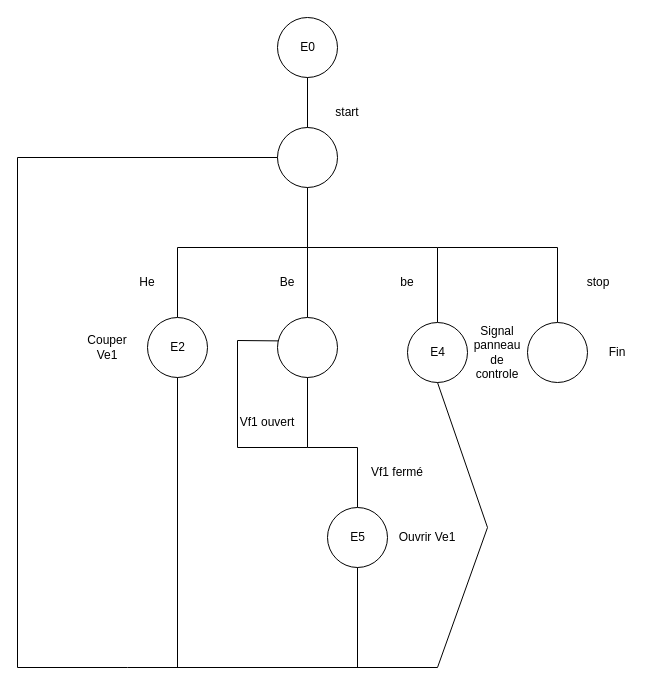
This 665x686 diagram has some shape labels left out. The centre of each missing label's shape, as x and y in pixels:
"E1" belongs at (307,157).
"E3" belongs at (307,347).
